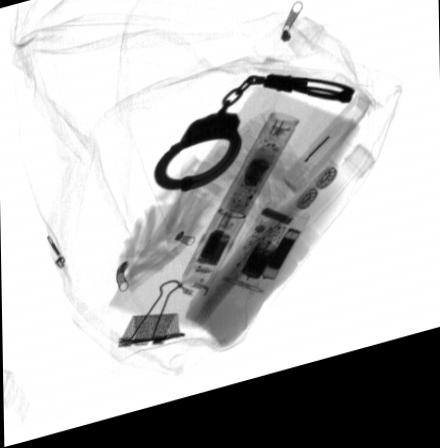Baton: (176, 125, 299, 309)
HandCuffs: (150, 86, 355, 204)
